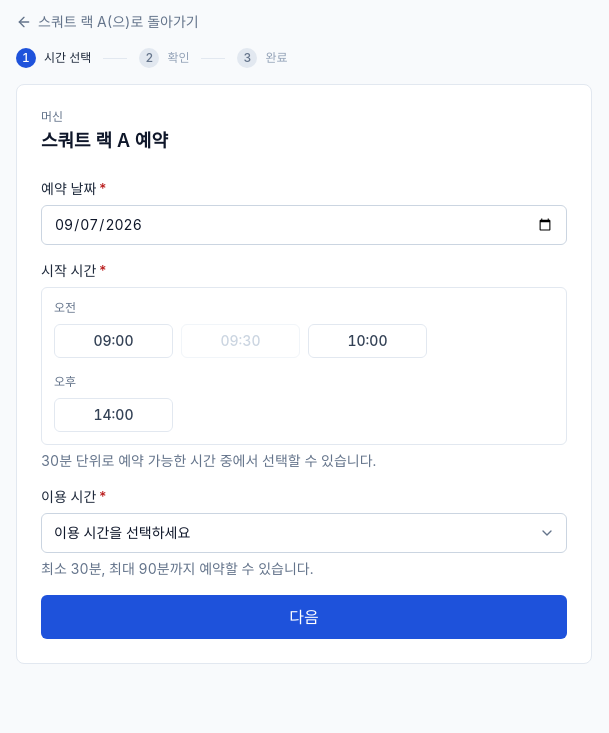
Scenario: ReservationCreatePage — slot selection & duration options › blocks moving to the review step until a start time is selected
The width and height of the screenshot is (609, 733).
Click the button "다음": (304, 617) [41,595,567,639]
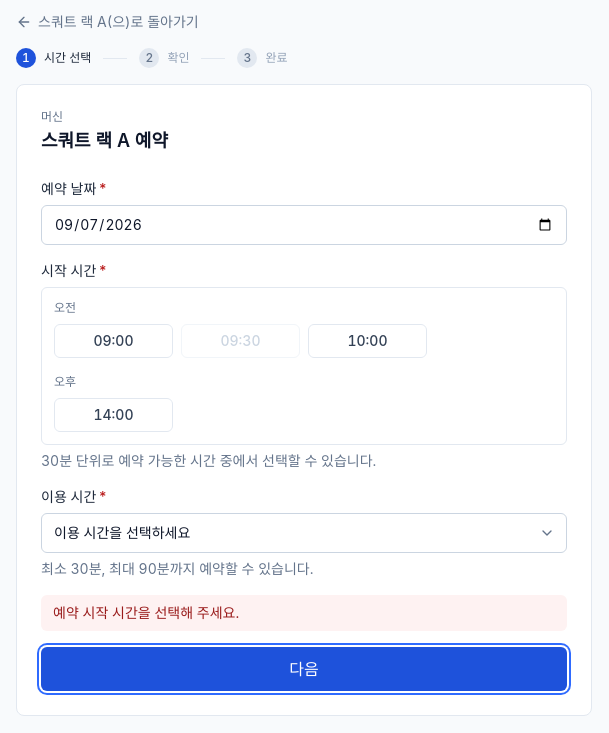
Check: the text "예약 시작 시간을 선택해 주세요." is shown, box [41,595,567,631]
